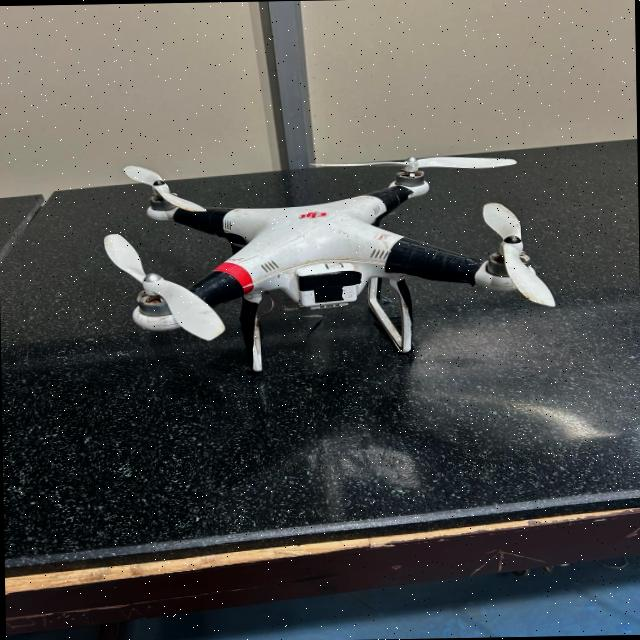drone: (66, 139, 576, 400)
